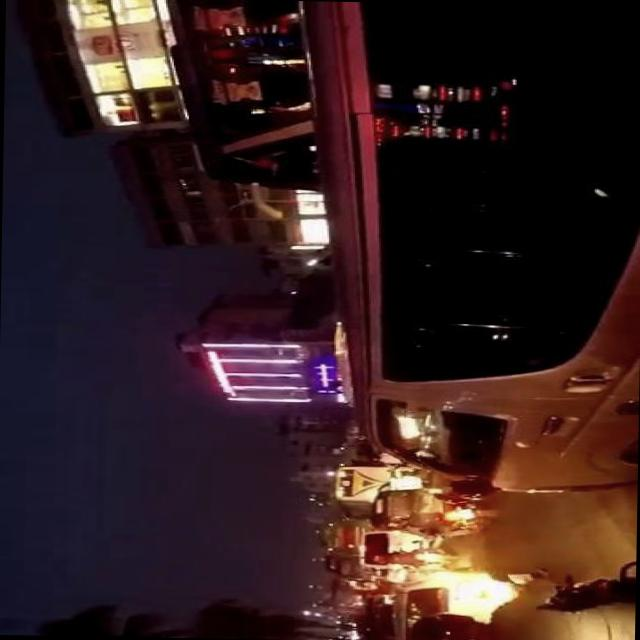bus: (327, 465, 380, 520), (314, 517, 362, 557), (332, 556, 359, 582)
car: (387, 567, 542, 640)
motorcycle: (502, 558, 634, 614), (364, 488, 441, 532), (419, 503, 498, 541), (405, 548, 455, 568)
truck: (290, 1, 640, 498), (355, 530, 414, 570)
